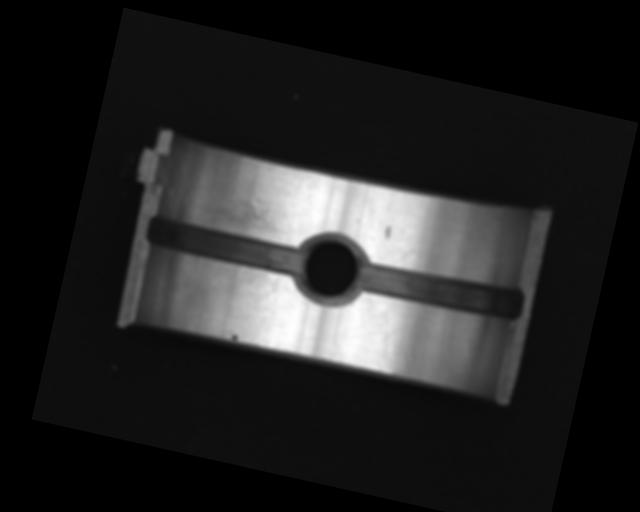blot: (229, 331, 239, 342)
bruise: (382, 224, 392, 240)
gap: (353, 253, 525, 325), (145, 213, 306, 279)
hole: (288, 230, 369, 311)
nick: (379, 297, 404, 353)
scratch: (195, 187, 298, 239)
